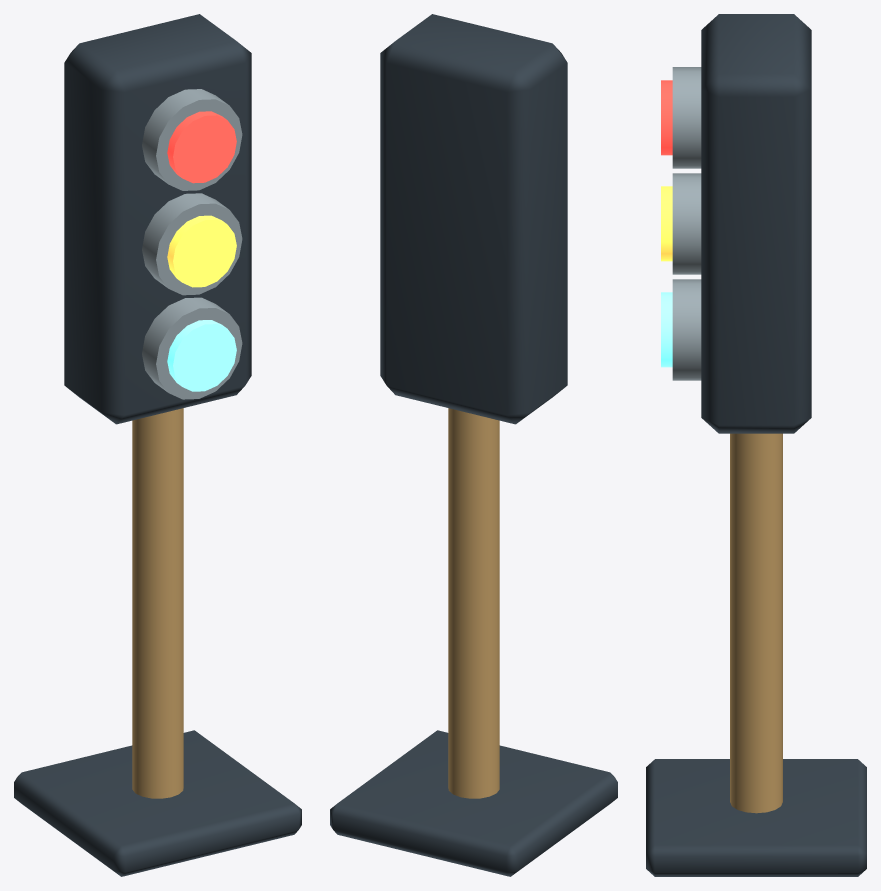
The model's file is nyanisyarud-camera-signal-beacon.glb.
3 views of the same model, side by side, from view 1: azimuth 30°, elevation 25°; view 2: azimuth 150°, elevation 25°; view 3: azimuth 270°, elevation 25° (orthographic).
Parts seen in each view (by area): view 1: signal-beacon_case, SignalStem, RedLamp_Bezel, AmberLamp_Bezel, ClearLamp_Bezel, AmberLamp, RedLamp, ClearLamp; view 2: signal-beacon_case, SignalStem; view 3: signal-beacon_case, SignalStem, AmberLamp_Bezel, ClearLamp_Bezel, RedLamp_Bezel, AmberLamp, ClearLamp, RedLamp.
Part boxes in pixels (<box>): signal-beacon_case: <box>14,14,301,876</box>; SignalStem: <box>132,408,183,798</box>; RedLamp_Bezel: <box>142,89,242,190</box>; AmberLamp_Bezel: <box>142,193,242,295</box>; ClearLamp_Bezel: <box>142,297,242,399</box>; AmberLamp: <box>167,215,236,287</box>; RedLamp: <box>167,111,236,183</box>; ClearLamp: <box>167,320,236,391</box>; signal-beacon_case: <box>330,14,617,876</box>; SignalStem: <box>448,408,499,798</box>; signal-beacon_case: <box>646,14,866,876</box>; SignalStem: <box>730,433,782,813</box>; AmberLamp_Bezel: <box>672,173,701,274</box>; ClearLamp_Bezel: <box>672,279,701,380</box>; RedLamp_Bezel: <box>672,67,701,168</box>; AmberLamp: <box>661,186,672,261</box>; ClearLamp: <box>661,292,672,367</box>; RedLamp: <box>661,80,672,155</box>.
Size of the model in its own units: 1 by 3.95 by 1.
